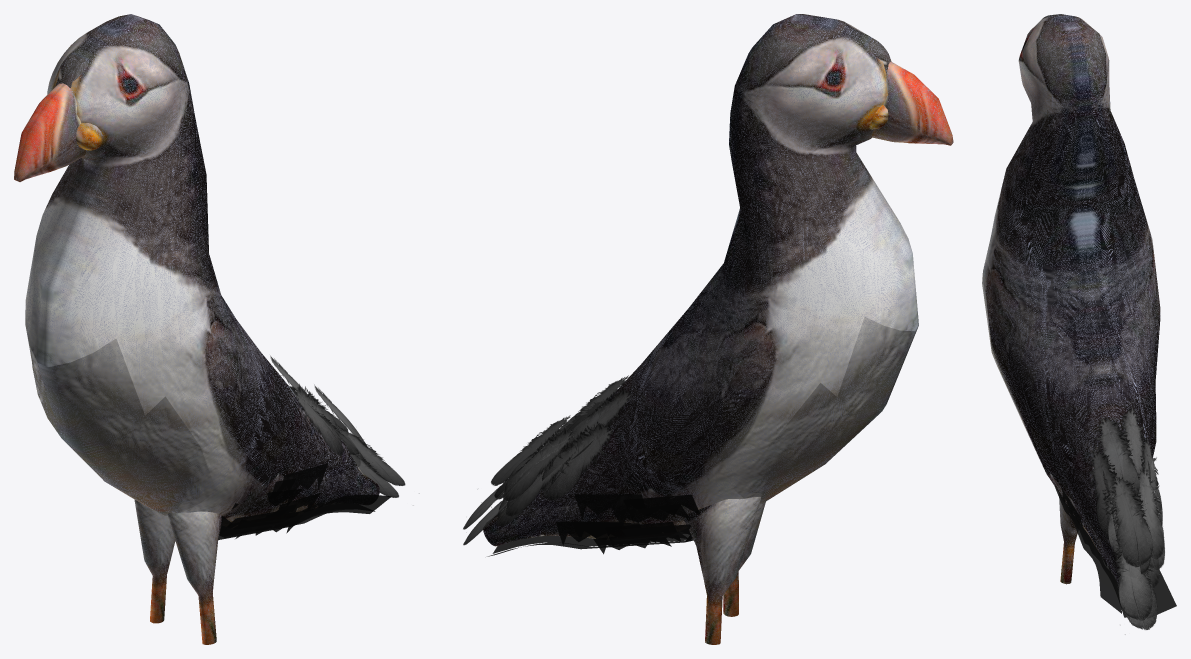
File: Puffin_5.fbx
3 renders of one model, left to right at view 1: azimuth 30°, elevation 25°; view 2: azimuth 150°, elevation 25°; view 3: azimuth 270°, elevation 25°, orthographic. The views are drawn at different scales.
Visible parts, largest first — view 1: Component_1_1, Group1, Component_2_1, Component_18_1, Component_18_2, Component_15_2, Component_5_4, Component_5_9, Component_12_9, Component_5_11, sphere1; view 2: Component_1_1, Group1, Component_18_2, Component_2_1, Component_5_8, Component_5_5, Component_5_6, Component_5_1, Component_18_1, Component_5_7, Component_12_18, Component_12_17 (+3 smaller); view 3: Component_1_1, Component_5_1, Component_5_9, Component_5_2, Component_5_5, Component_5_4, Component_5_6, Component_15_2, Component_18_1, Component_5_8, Component_15_3, Component_5_11 (+1 smaller).
Boxes of the visible parts, x1,y1,x2,y2 form: Component_1_1: (25, 14, 379, 522); Group1: (26, 332, 216, 515); Component_2_1: (14, 83, 86, 181); Component_18_1: (167, 511, 221, 644); Component_18_2: (134, 499, 175, 623); Component_15_2: (218, 494, 391, 539); Component_5_4: (294, 384, 344, 455); Component_5_9: (337, 426, 419, 493); Component_12_9: (271, 463, 327, 502); Component_5_11: (350, 454, 398, 497); sphere1: (76, 123, 103, 150); Component_1_1: (483, 14, 918, 546); Group1: (733, 317, 918, 503); Component_18_2: (684, 497, 760, 644); Component_2_1: (871, 62, 953, 145); Component_5_8: (542, 421, 613, 500); Component_5_5: (503, 427, 574, 501); Component_5_6: (568, 387, 632, 459); Component_5_1: (491, 415, 570, 485); Component_18_1: (723, 502, 765, 616); Component_5_7: (501, 444, 575, 516); Component_12_18: (574, 494, 648, 518); Component_12_17: (623, 494, 700, 520); Component_1_1: (982, 14, 1160, 585); Component_5_1: (1104, 476, 1161, 567); Component_5_9: (1113, 538, 1152, 620); Component_5_2: (1091, 416, 1147, 503); Component_5_5: (1132, 467, 1164, 560); Component_5_4: (1085, 449, 1118, 538); Component_5_6: (1119, 407, 1150, 484); Component_15_2: (1070, 514, 1121, 613); Component_18_1: (1059, 497, 1077, 584); Component_5_8: (1140, 437, 1162, 524); Component_15_3: (1152, 570, 1176, 614); Component_5_11: (1125, 566, 1157, 634).
Size of the model in its own units: 1.97 by 2.65 by 0.891.
